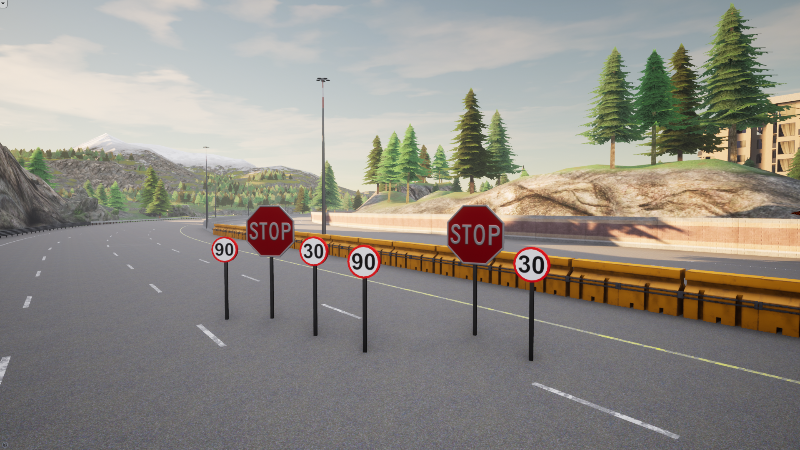fast: (347, 245, 380, 279), (211, 237, 239, 263)
slow: (513, 247, 551, 282), (299, 236, 329, 266)
stop: (447, 205, 505, 265), (246, 206, 295, 257)
